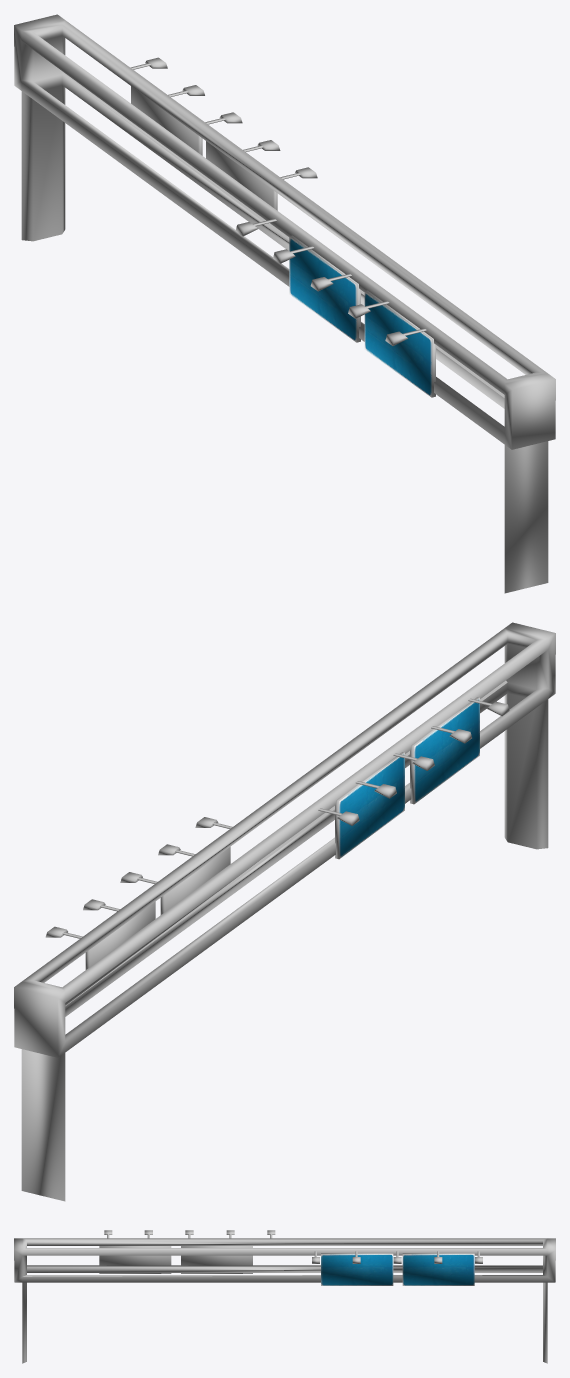
The model's file is signs.fbx.
The picture shows the model from 3 angles, top to bottom: view 1: azimuth 30°, elevation 25°; view 2: azimuth 150°, elevation 25°; view 3: azimuth 270°, elevation 25°; orthographic projection. The views are drawn at different scales.
Parts seen in each view (by area): view 1: vegasmotsignCJ; view 2: vegasmotsignCJ; view 3: vegasmotsignCJ.
Part boxes in pixels (left/top/right/bottom): vegasmotsignCJ: left=14, top=14, right=555, bottom=593; vegasmotsignCJ: left=14, top=622, right=555, bottom=1201; vegasmotsignCJ: left=14, top=1230, right=555, bottom=1363.
Size of the model in its own units: 564 by 974 by 4202.
